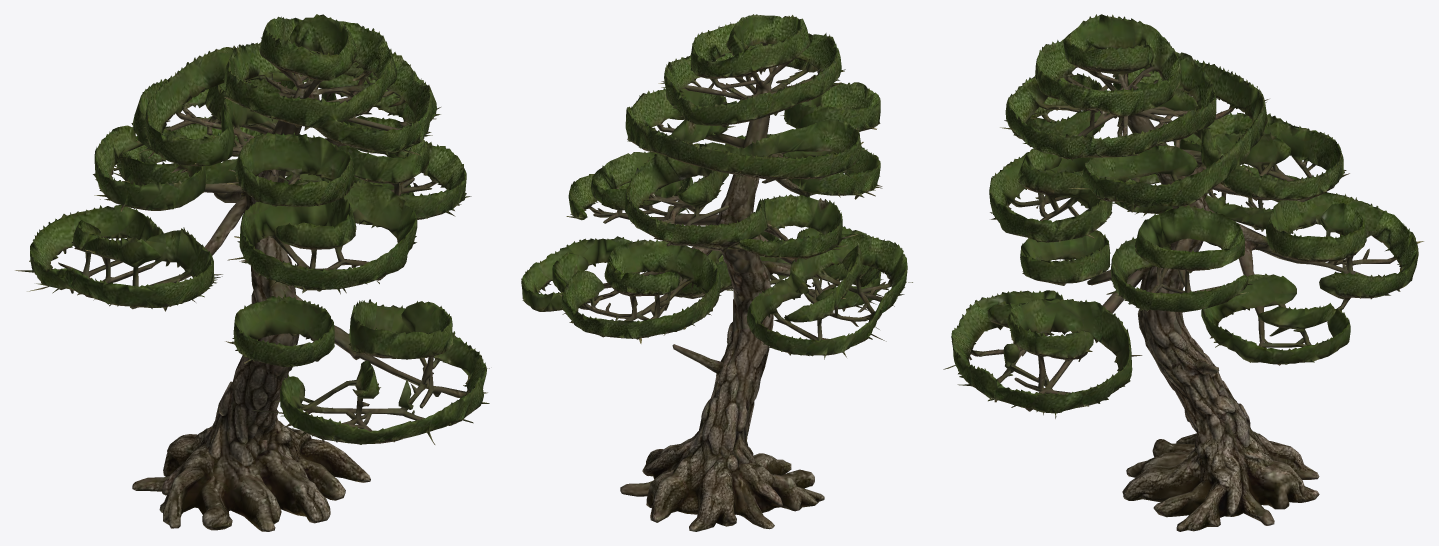
File: tree_c.glb
3 views of the same model, side by side, from view 1: azimuth 30°, elevation 25°; view 2: azimuth 150°, elevation 25°; view 3: azimuth 270°, elevation 25° (orthographic). The views are drawn at different scales.
Parts seen in each view (by area): view 1: tripo_node_31b4726e-e5e3-45d4-a152-4a0fa2648222; view 2: tripo_node_31b4726e-e5e3-45d4-a152-4a0fa2648222; view 3: tripo_node_31b4726e-e5e3-45d4-a152-4a0fa2648222.
Boxes of the visible parts, box(x1,y1,x2,y2) form: tripo_node_31b4726e-e5e3-45d4-a152-4a0fa2648222: box(15, 14, 489, 531); tripo_node_31b4726e-e5e3-45d4-a152-4a0fa2648222: box(521, 14, 912, 531); tripo_node_31b4726e-e5e3-45d4-a152-4a0fa2648222: box(943, 14, 1423, 531).
Size of the model in its own units: 0.8035 by 0.9771 by 0.9269.
Materials: 1 (1 with a texture image).
